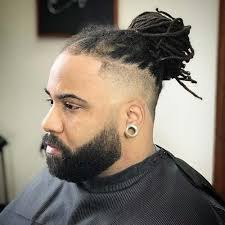black_male: (34, 51, 166, 177)
